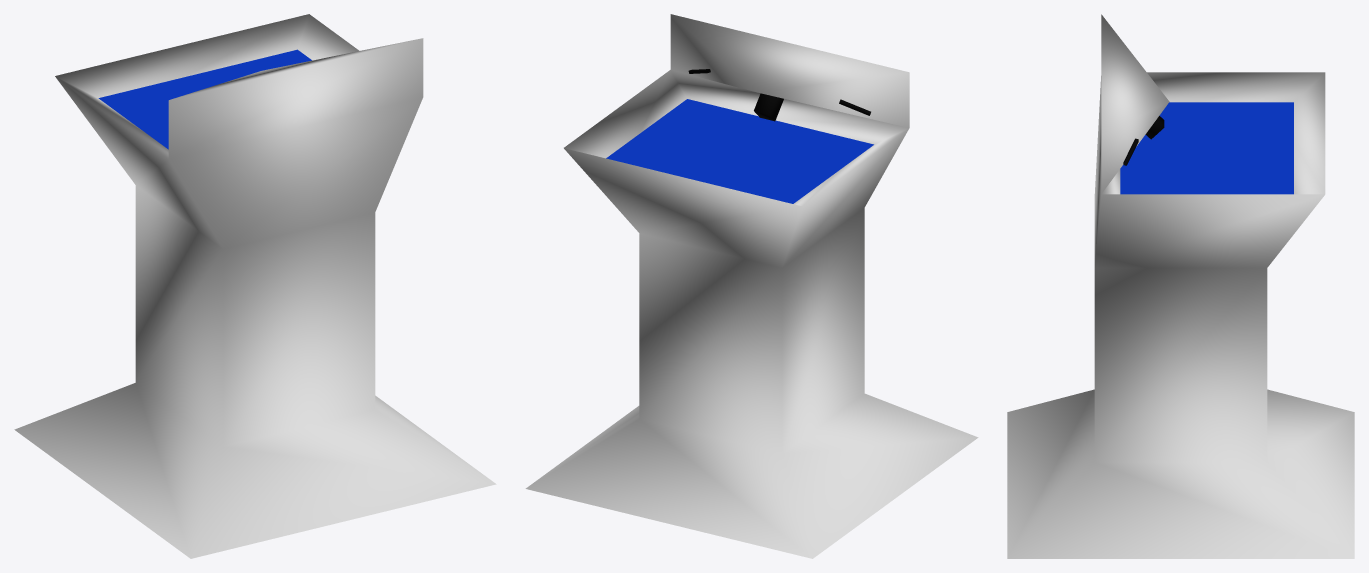
Rendered from sink.fbx.
3 views of the same model, side by side, from view 1: azimuth 30°, elevation 25°; view 2: azimuth 150°, elevation 25°; view 3: azimuth 270°, elevation 25° (orthographic). The views are drawn at different scales.
Parts seen in each view (by area): view 1: Sink; view 2: Sink; view 3: Sink.
Boxes of the visible parts, x1=… form: Sink: x1=14, y1=14, x2=496, y2=558; Sink: x1=525, y1=14, x2=978, y2=558; Sink: x1=1007, y1=14, x2=1354, y2=558.
Size of the model in its own units: 200 by 200 by 261.
